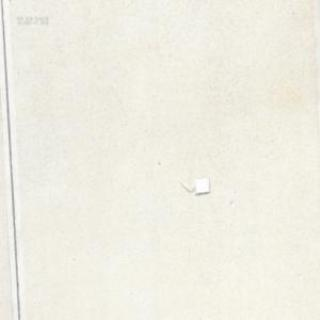LuggageTagtrack_idkeyframe: (178, 176, 209, 193)
